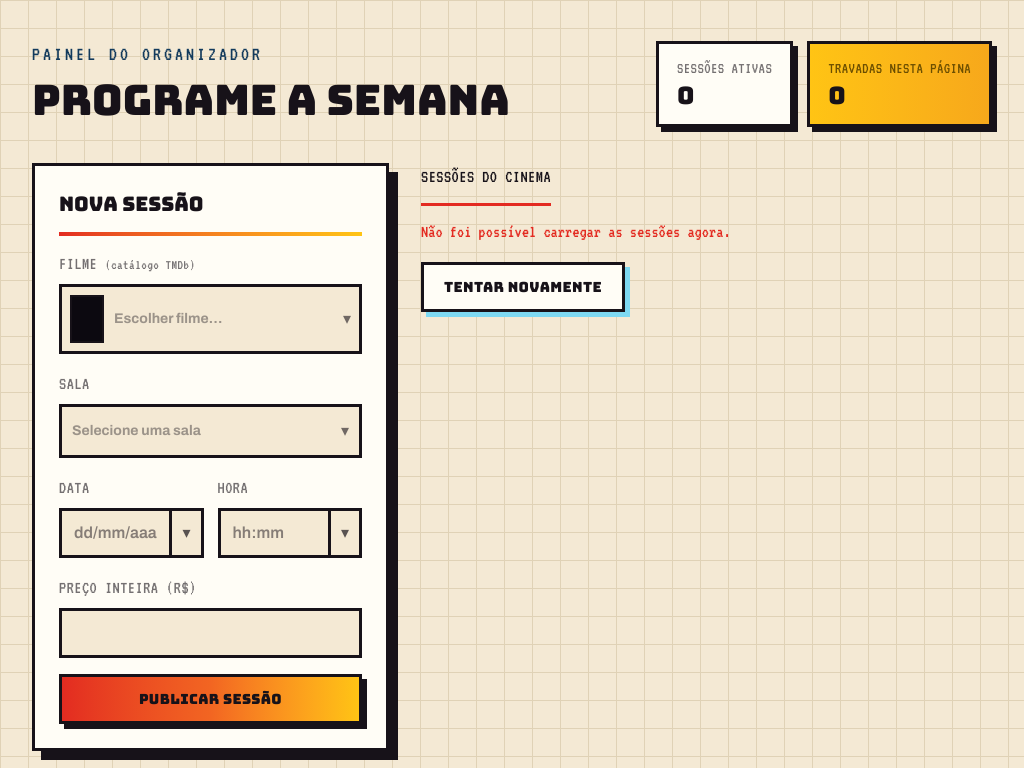
it: GerenciarSessoesPage › retries loading sessions when the retry button is clicked
The image size is (1024, 768).
Expected: the message "Não foi possível carregar as sessões agora." is shown, 421,222 -> 731,240
Click the button "TENTAR NOVAMENTE" at (523, 286), box 421,262 -> 625,312
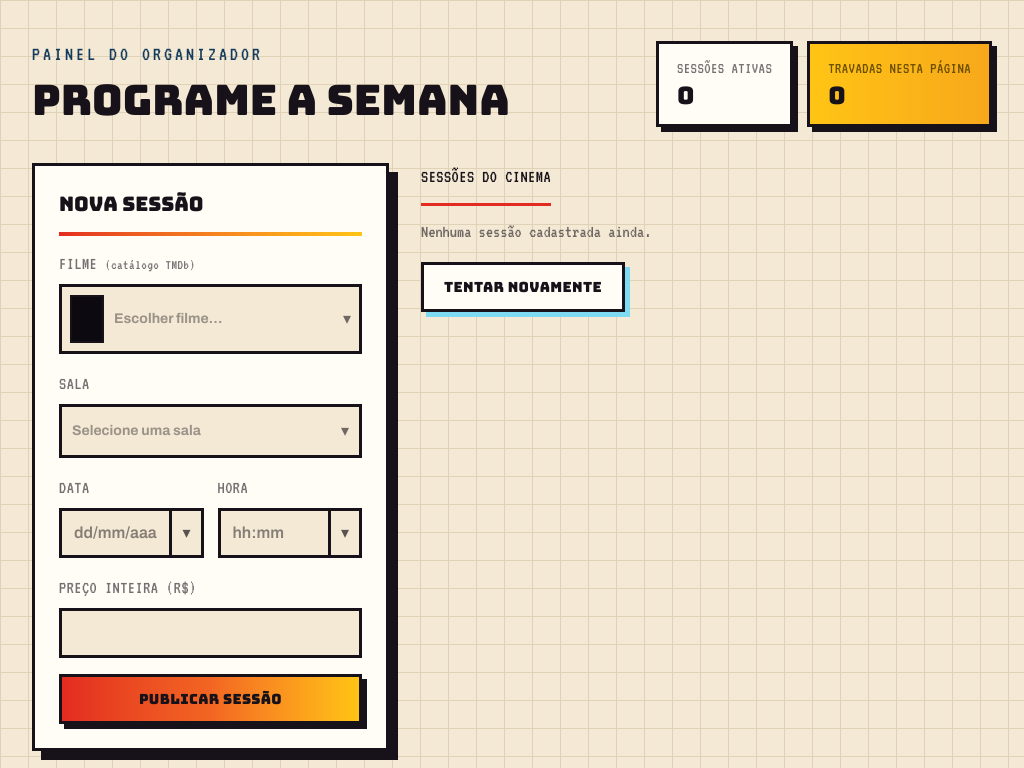
Now the text "Nenhuma sessão cadastrada ainda." is shown, box 421,222 -> 651,240
